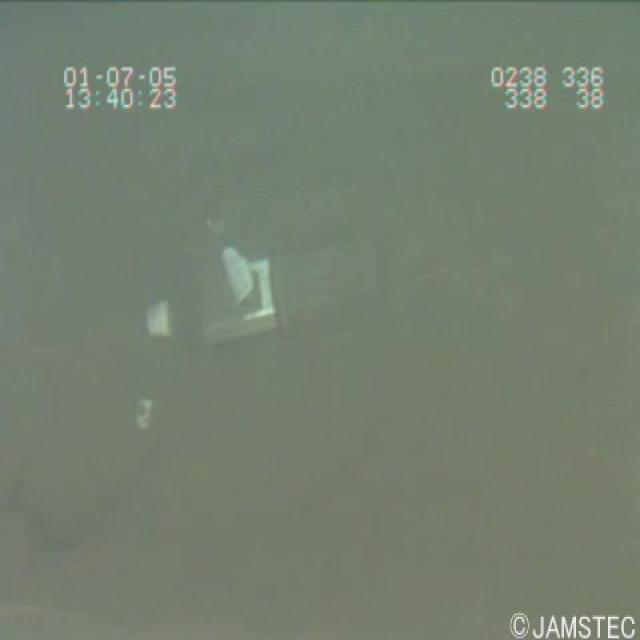plastic: (124, 214, 404, 372)
